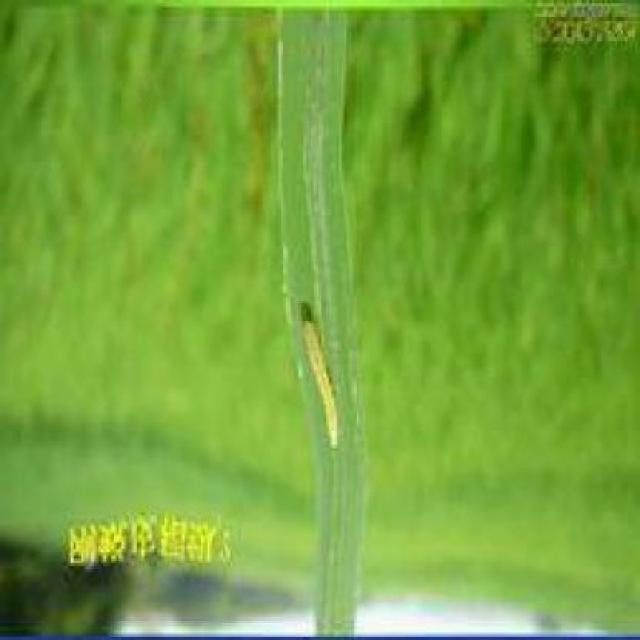leaf-folder: (294, 299, 358, 463)
